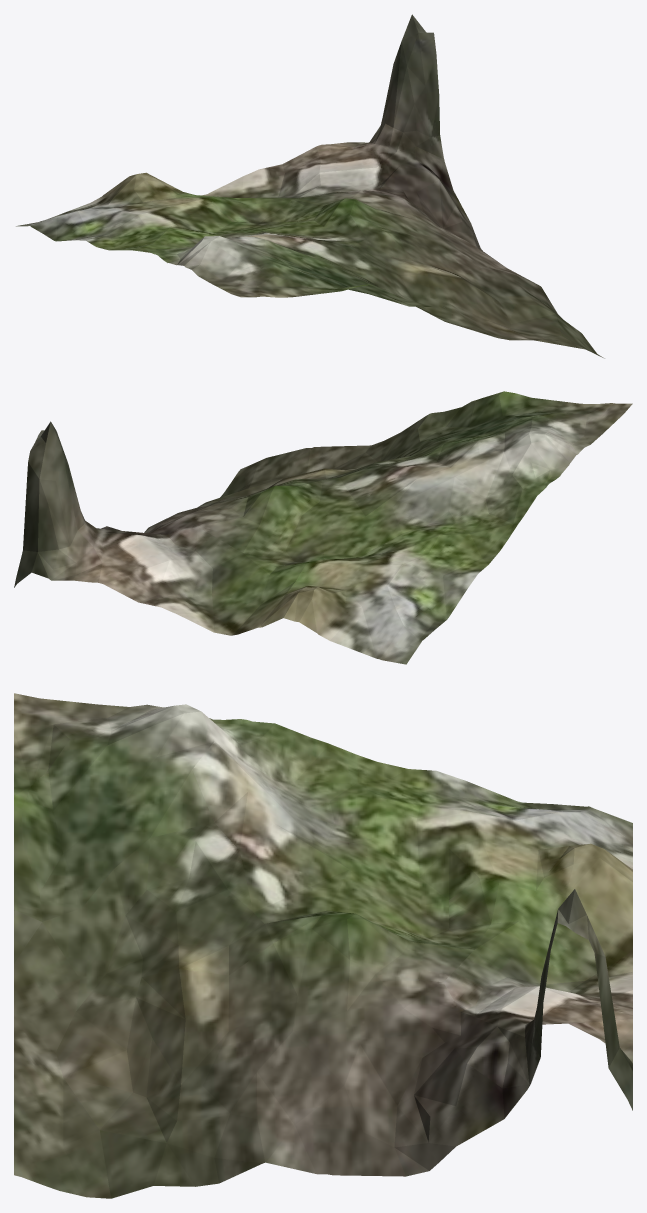
3 views of the same model, one above another, from view 1: azimuth 30°, elevation 25°; view 2: azimuth 150°, elevation 25°; view 3: azimuth 270°, elevation 25° (orthographic). The views are drawn at different scales.
Size of the model in its own units: 2.95 by 1.58 by 2.95.
Materials: 3 (3 with a texture image).
